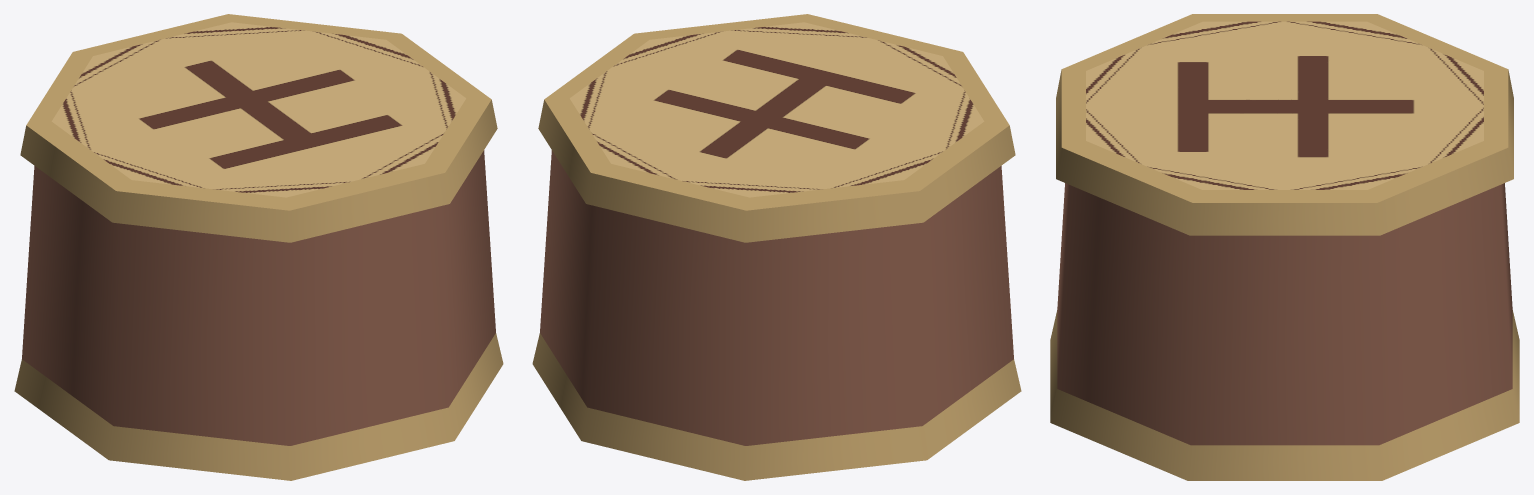
File: Red2.glb
3 views of the same model, side by side, from view 1: azimuth 30°, elevation 25°; view 2: azimuth 150°, elevation 25°; view 3: azimuth 270°, elevation 25° (orthographic). The views are drawn at different scales.
Visible parts, largest first — view 1: Red2; view 2: Red2; view 3: Red2.
Boxes of the visible parts, x1,y1,x2,y2 form: Red2: (14, 14, 503, 480); Red2: (532, 14, 1021, 480); Red2: (1050, 14, 1519, 480).
Size of the model in its own units: 0.7668 by 0.497 by 0.7668.
3 materials, 1 textured.
